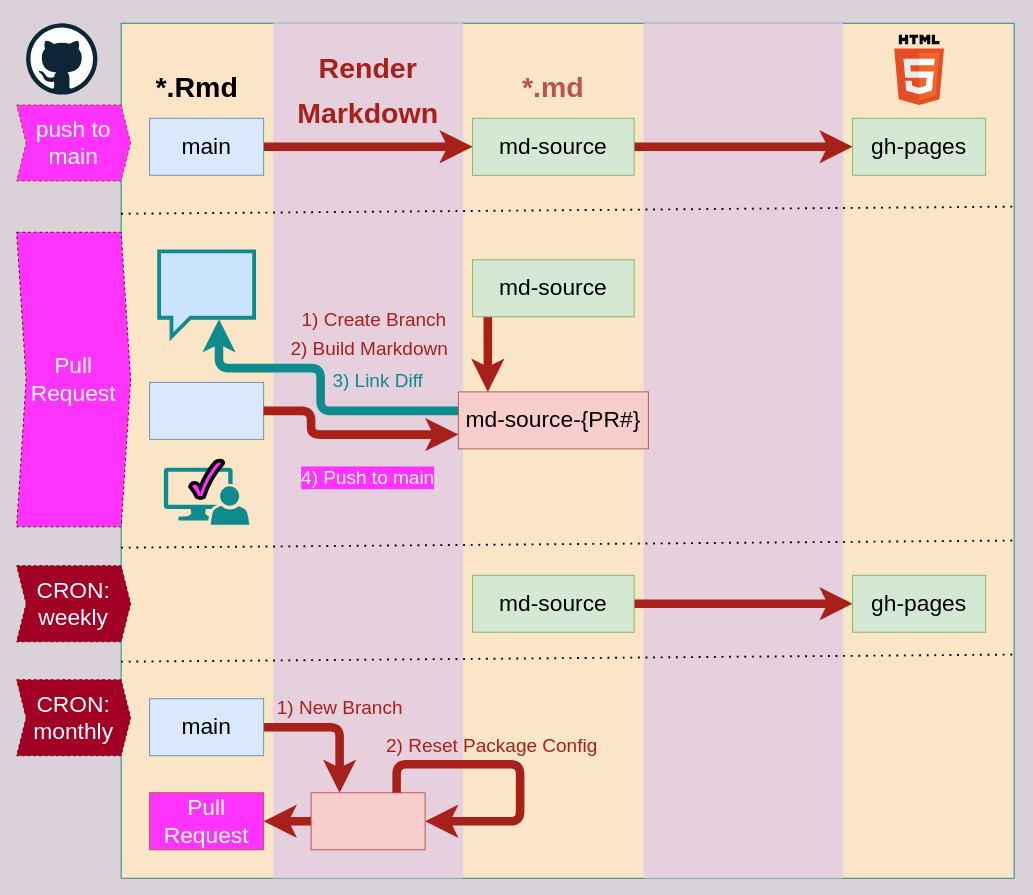
Some shapes in this 1033 by 895 pixel diagram are drawn without their labels. The shapes that lost their labels are listed below. From the top down, each one's centre as x and y in pixels, then its label:
the point at 206,293: PR #
the point at 206,410: pr-branch
the point at 743,450: Apply HTML Template
the point at 367,821: YYYY-MM
